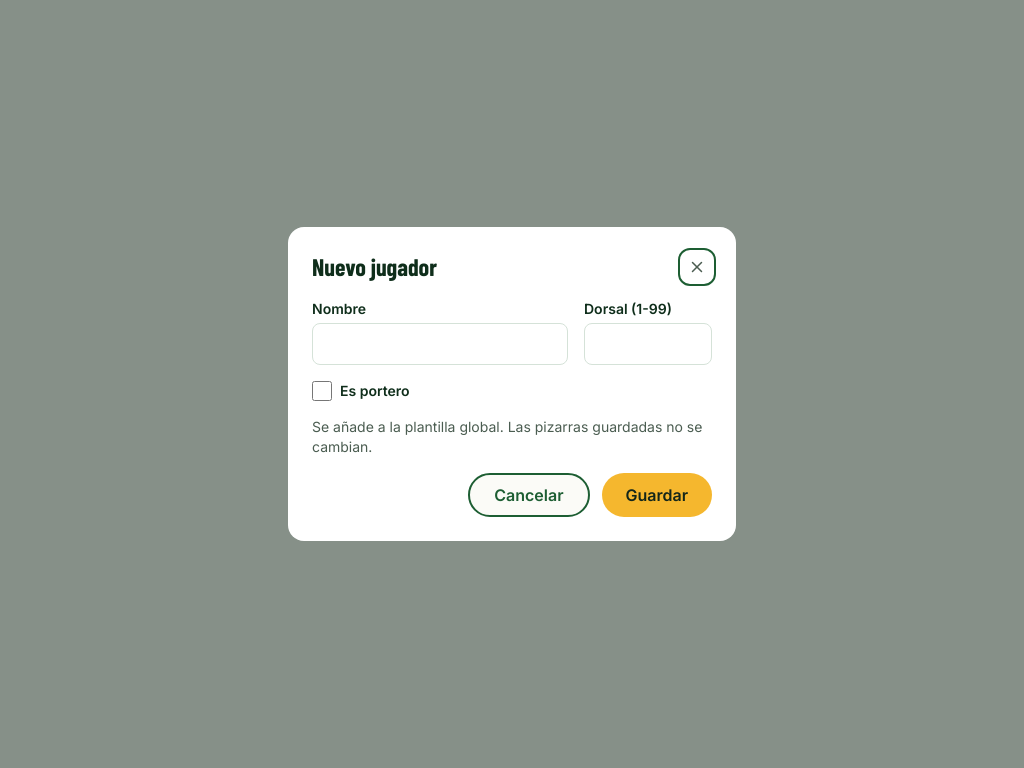
Test: PlayerForm › debería mostrar un error si el dorsal está fuera de rango
Type "Rubén" into the field labelled "Nombre" at (440,344), box x1=312 y1=323 x2=568 y2=365
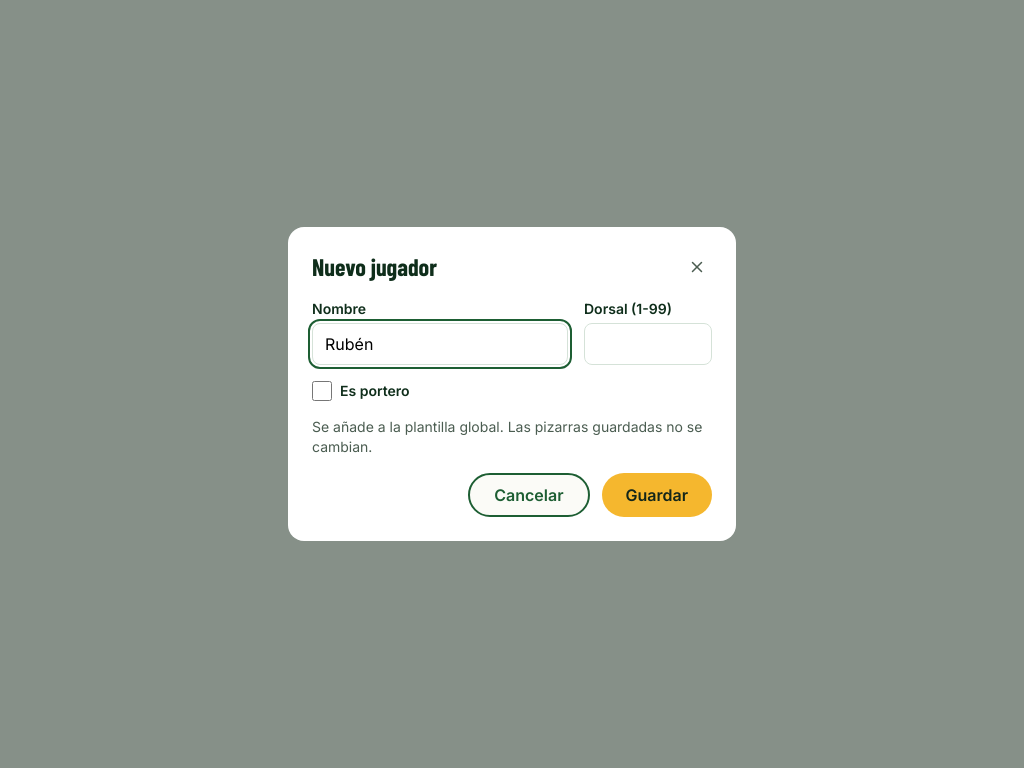
Type "120" into the number field labelled "Dorsal (1-99)" at (648,344), box x1=584 y1=323 x2=712 y2=365
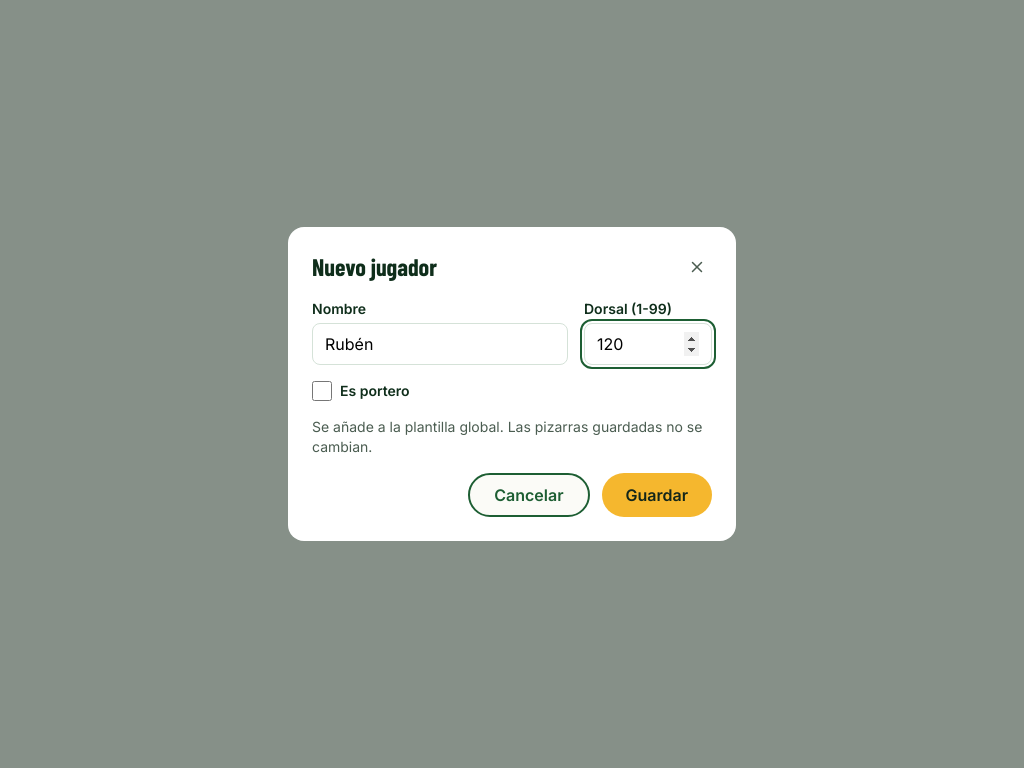
Click the button "Guardar" at (657,495), box x1=602 y1=473 x2=712 y2=517
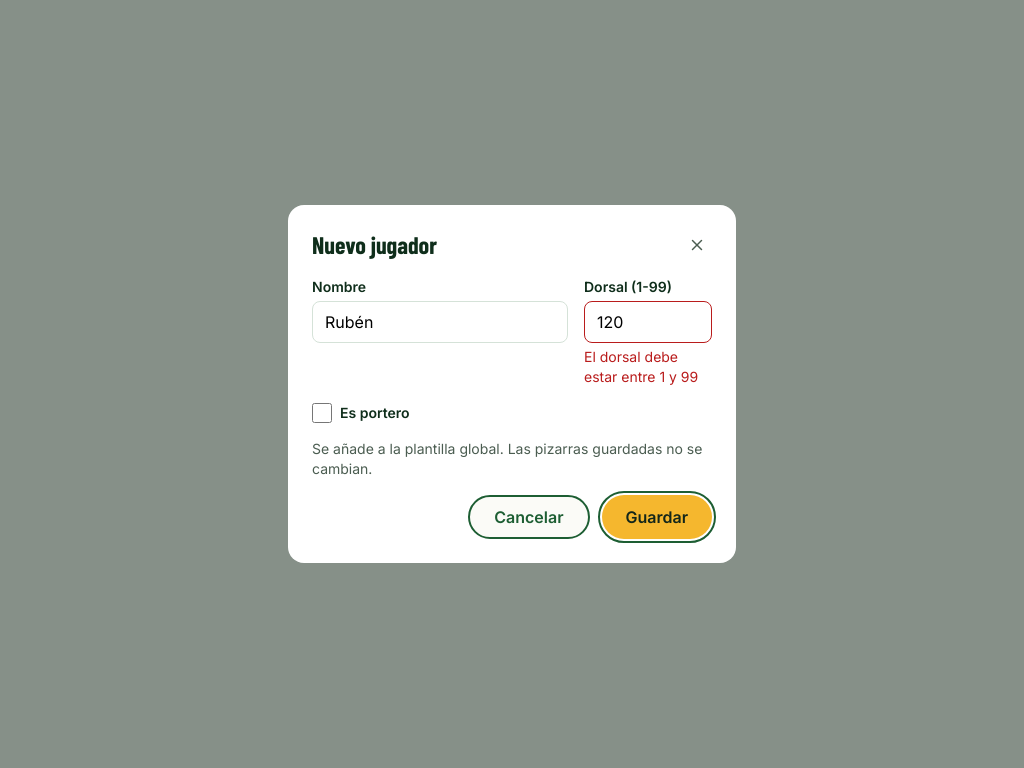
Now the text "El dorsal debe estar entre 1 y 99" is shown, box x1=584 y1=347 x2=712 y2=387
